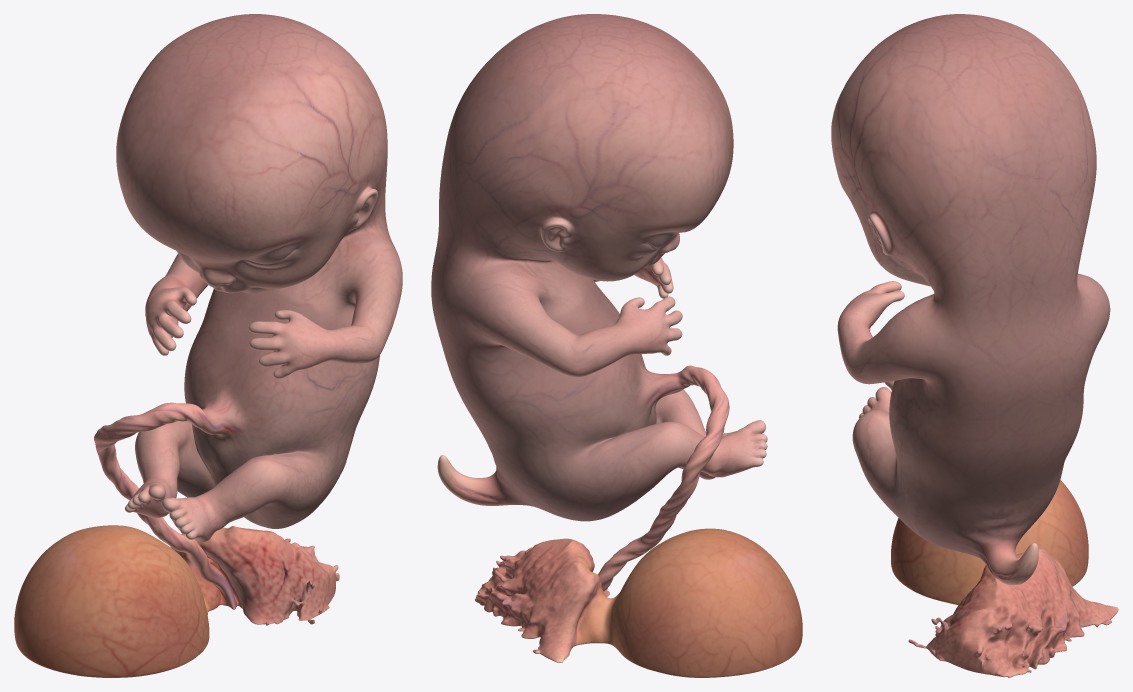
The model's file is semaine-09.glb.
3 renders of one model, left to right at view 1: azimuth 30°, elevation 25°; view 2: azimuth 150°, elevation 25°; view 3: azimuth 270°, elevation 25°, orthographic. The views are drawn at different scales.
Bounding box in the file's own units: 1.2 × 1.91 × 0.8285.
Materials: 1 (1 with a texture image).
